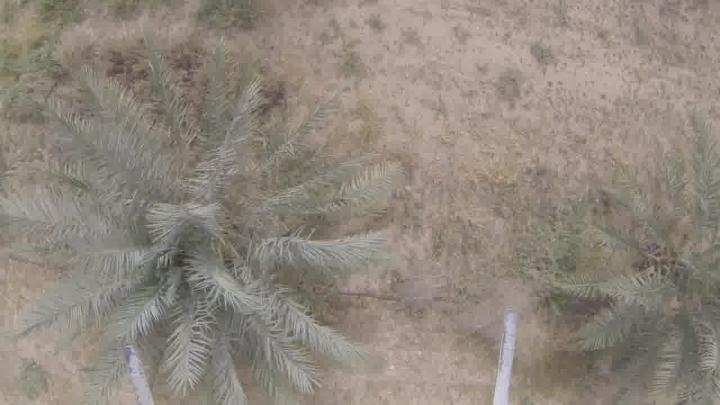Date-Palm-Crown: (42, 132, 324, 380), (620, 190, 720, 352)
